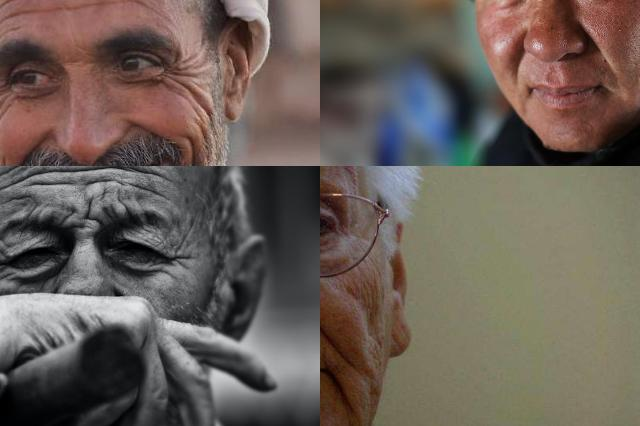crows_feet: (165, 58, 203, 90), (164, 244, 192, 271), (0, 73, 14, 111), (0, 252, 10, 276)
forehead: (30, 166, 72, 193), (80, 166, 120, 191), (124, 176, 162, 198), (120, 166, 165, 183), (0, 0, 23, 33), (0, 190, 40, 208), (2, 166, 31, 189), (103, 0, 155, 12), (53, 0, 90, 11), (25, 0, 53, 13)
frown_line: (77, 198, 101, 230), (62, 52, 94, 71)
gummy_smile: (588, 30, 618, 71), (508, 47, 532, 85), (320, 301, 331, 340)
masseter: (190, 97, 218, 144)
sad_smile: (332, 368, 353, 406)
